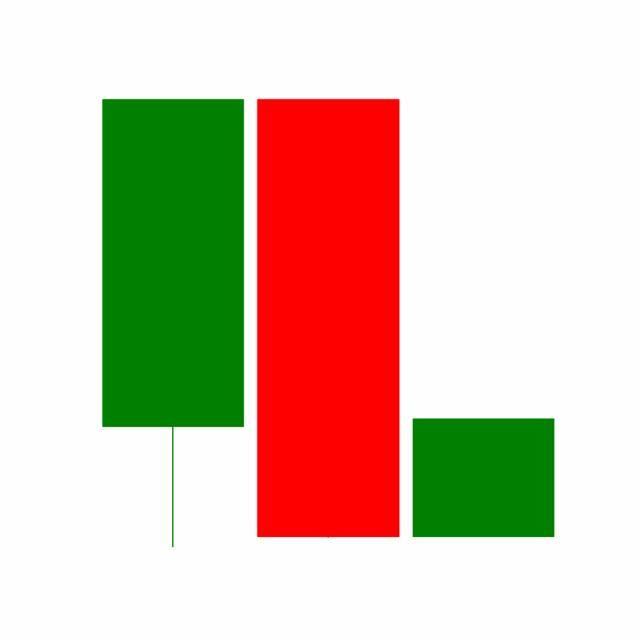Marubozu: (250, 95, 407, 543)
